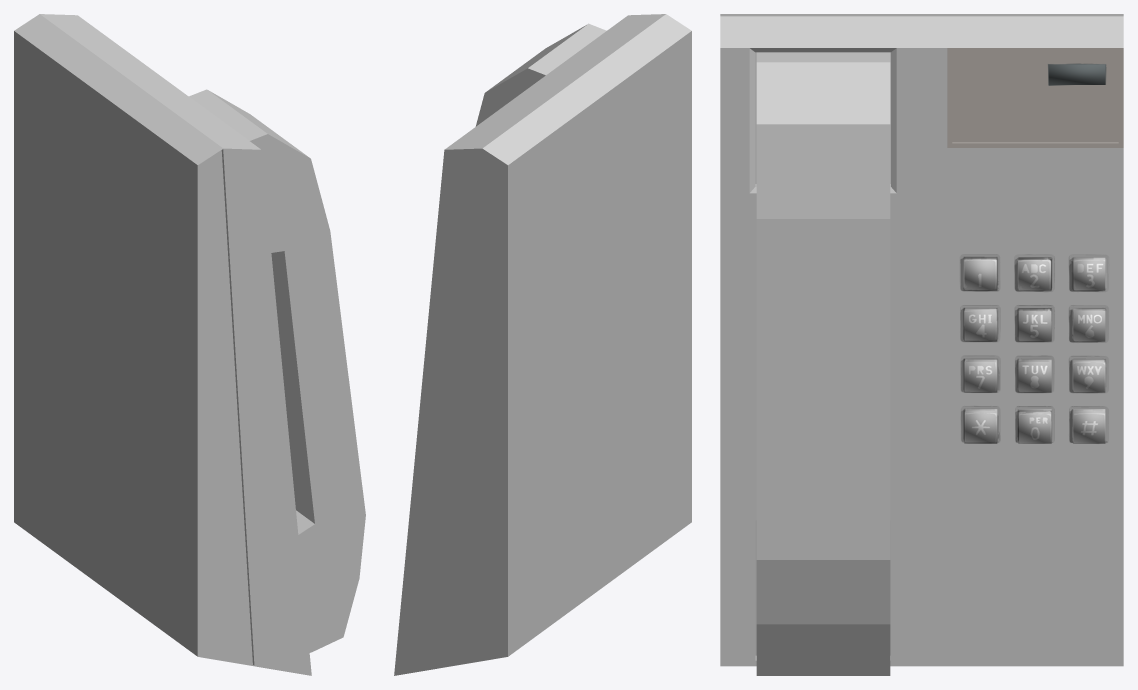
File: eighties_phone.fbx
3 views of the same model, side by side, from view 1: azimuth 30°, elevation 25°; view 2: azimuth 150°, elevation 25°; view 3: azimuth 270°, elevation 25° (orthographic). The views are drawn at different scales.
Parts seen in each view (by area): view 1: eighties_phone; view 2: eighties_phone; view 3: eighties_phone.
Boxes of the visible parts, x1,y1,x2,y2 form: eighties_phone: [14, 14, 365, 675]; eighties_phone: [394, 14, 691, 675]; eighties_phone: [720, 14, 1123, 675].
Size of the model in its own units: 110 by 313 by 190.
